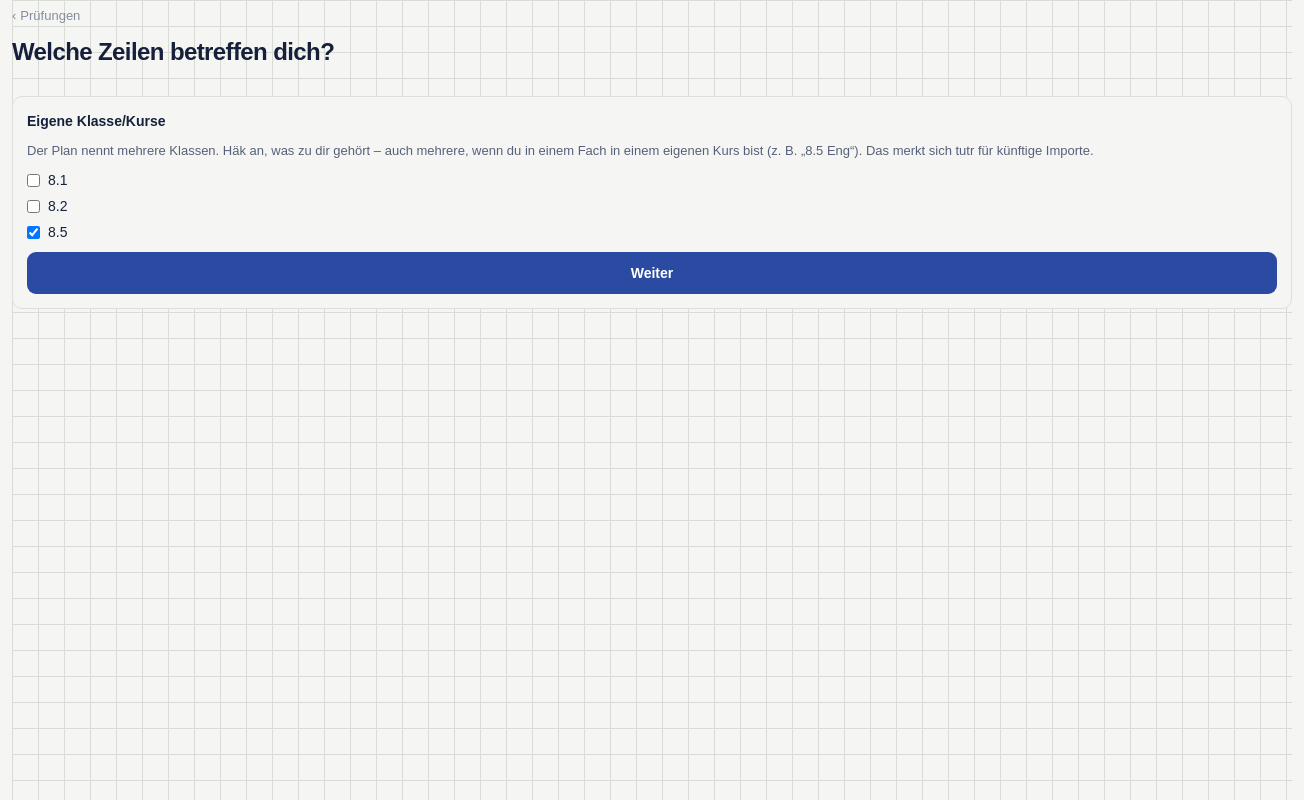
ReviewListe › Gruppen-Einrichtung beim ersten Mal: schlägt eigene Tokens vor, speichert die Auswahl
Expected: the heading "Welche Zeilen betreffen dich?" is shown, [12,36,334,68]
Expected: the checkbox labelled "8.5" is checked, [27,226,40,238]
Click the button "Weiter" at (652, 273), box [27,252,1277,294]
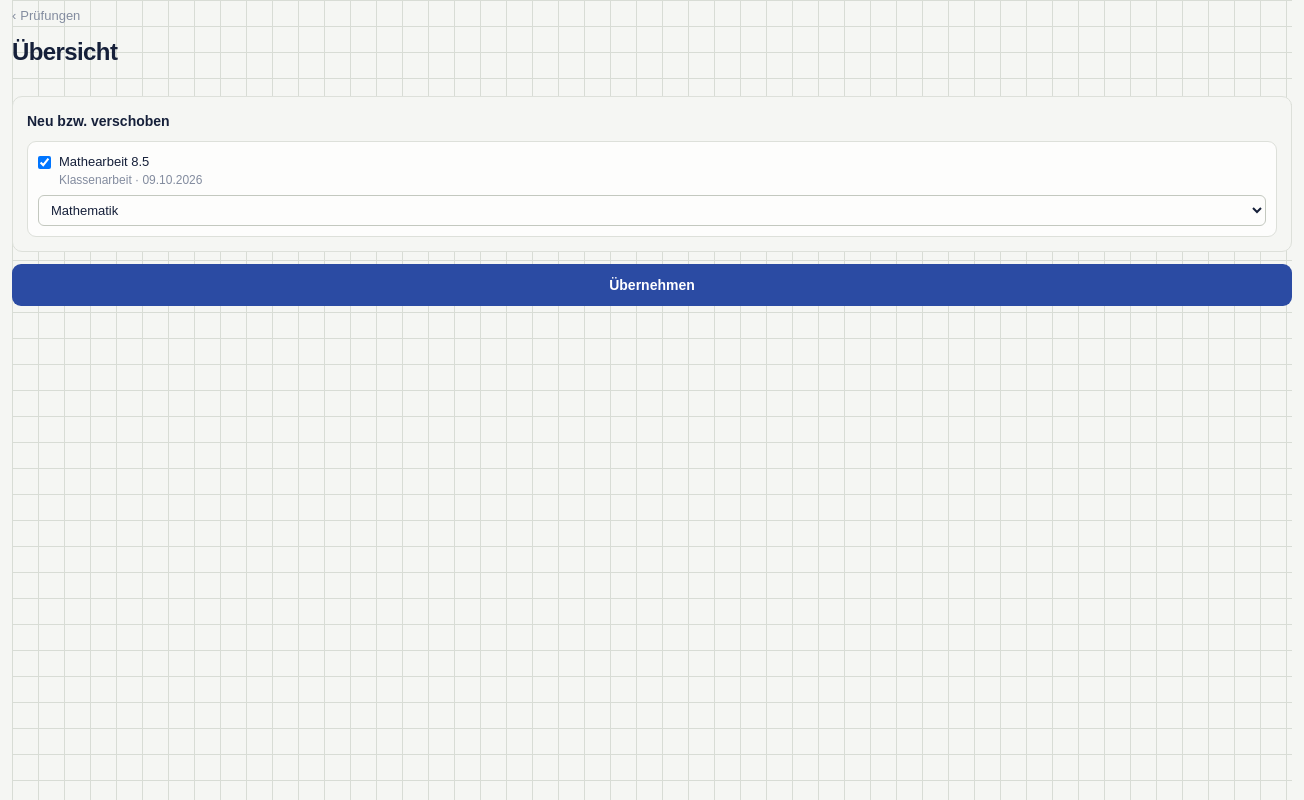
Now the text "Mathearbeit 8.5" is shown, box [59,154,149,168]
